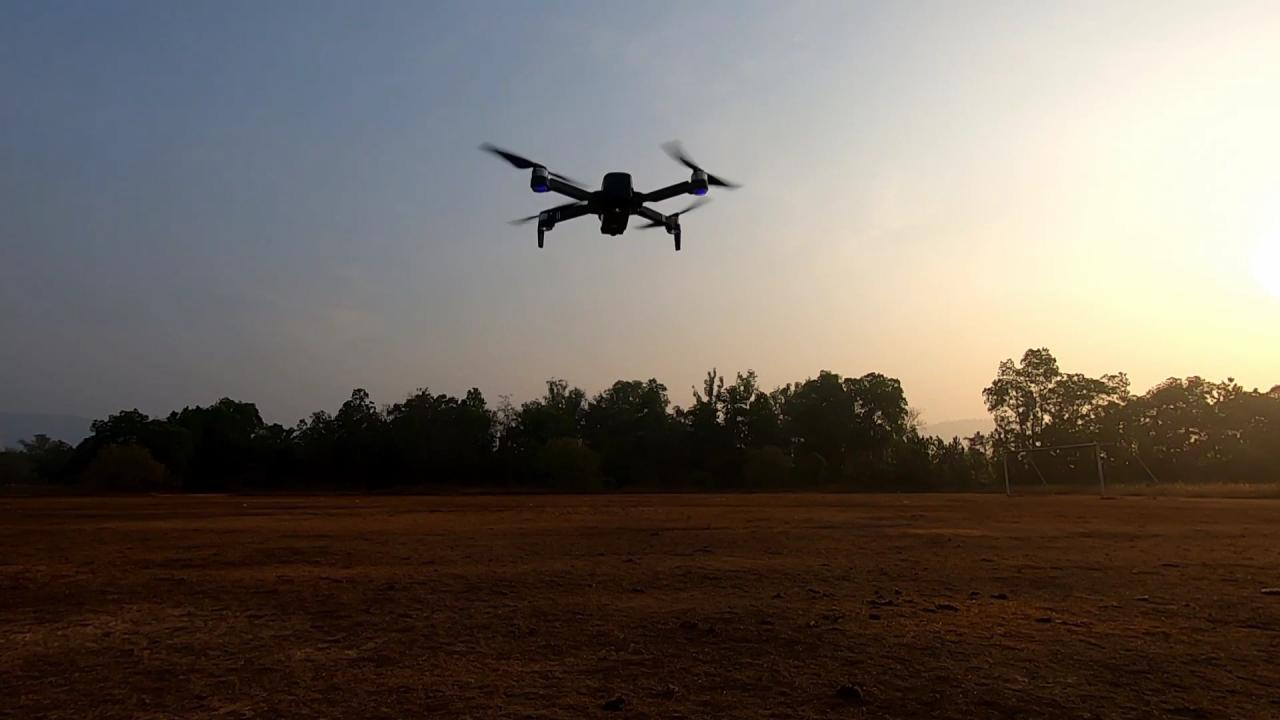Drone: (470, 128, 750, 260)
